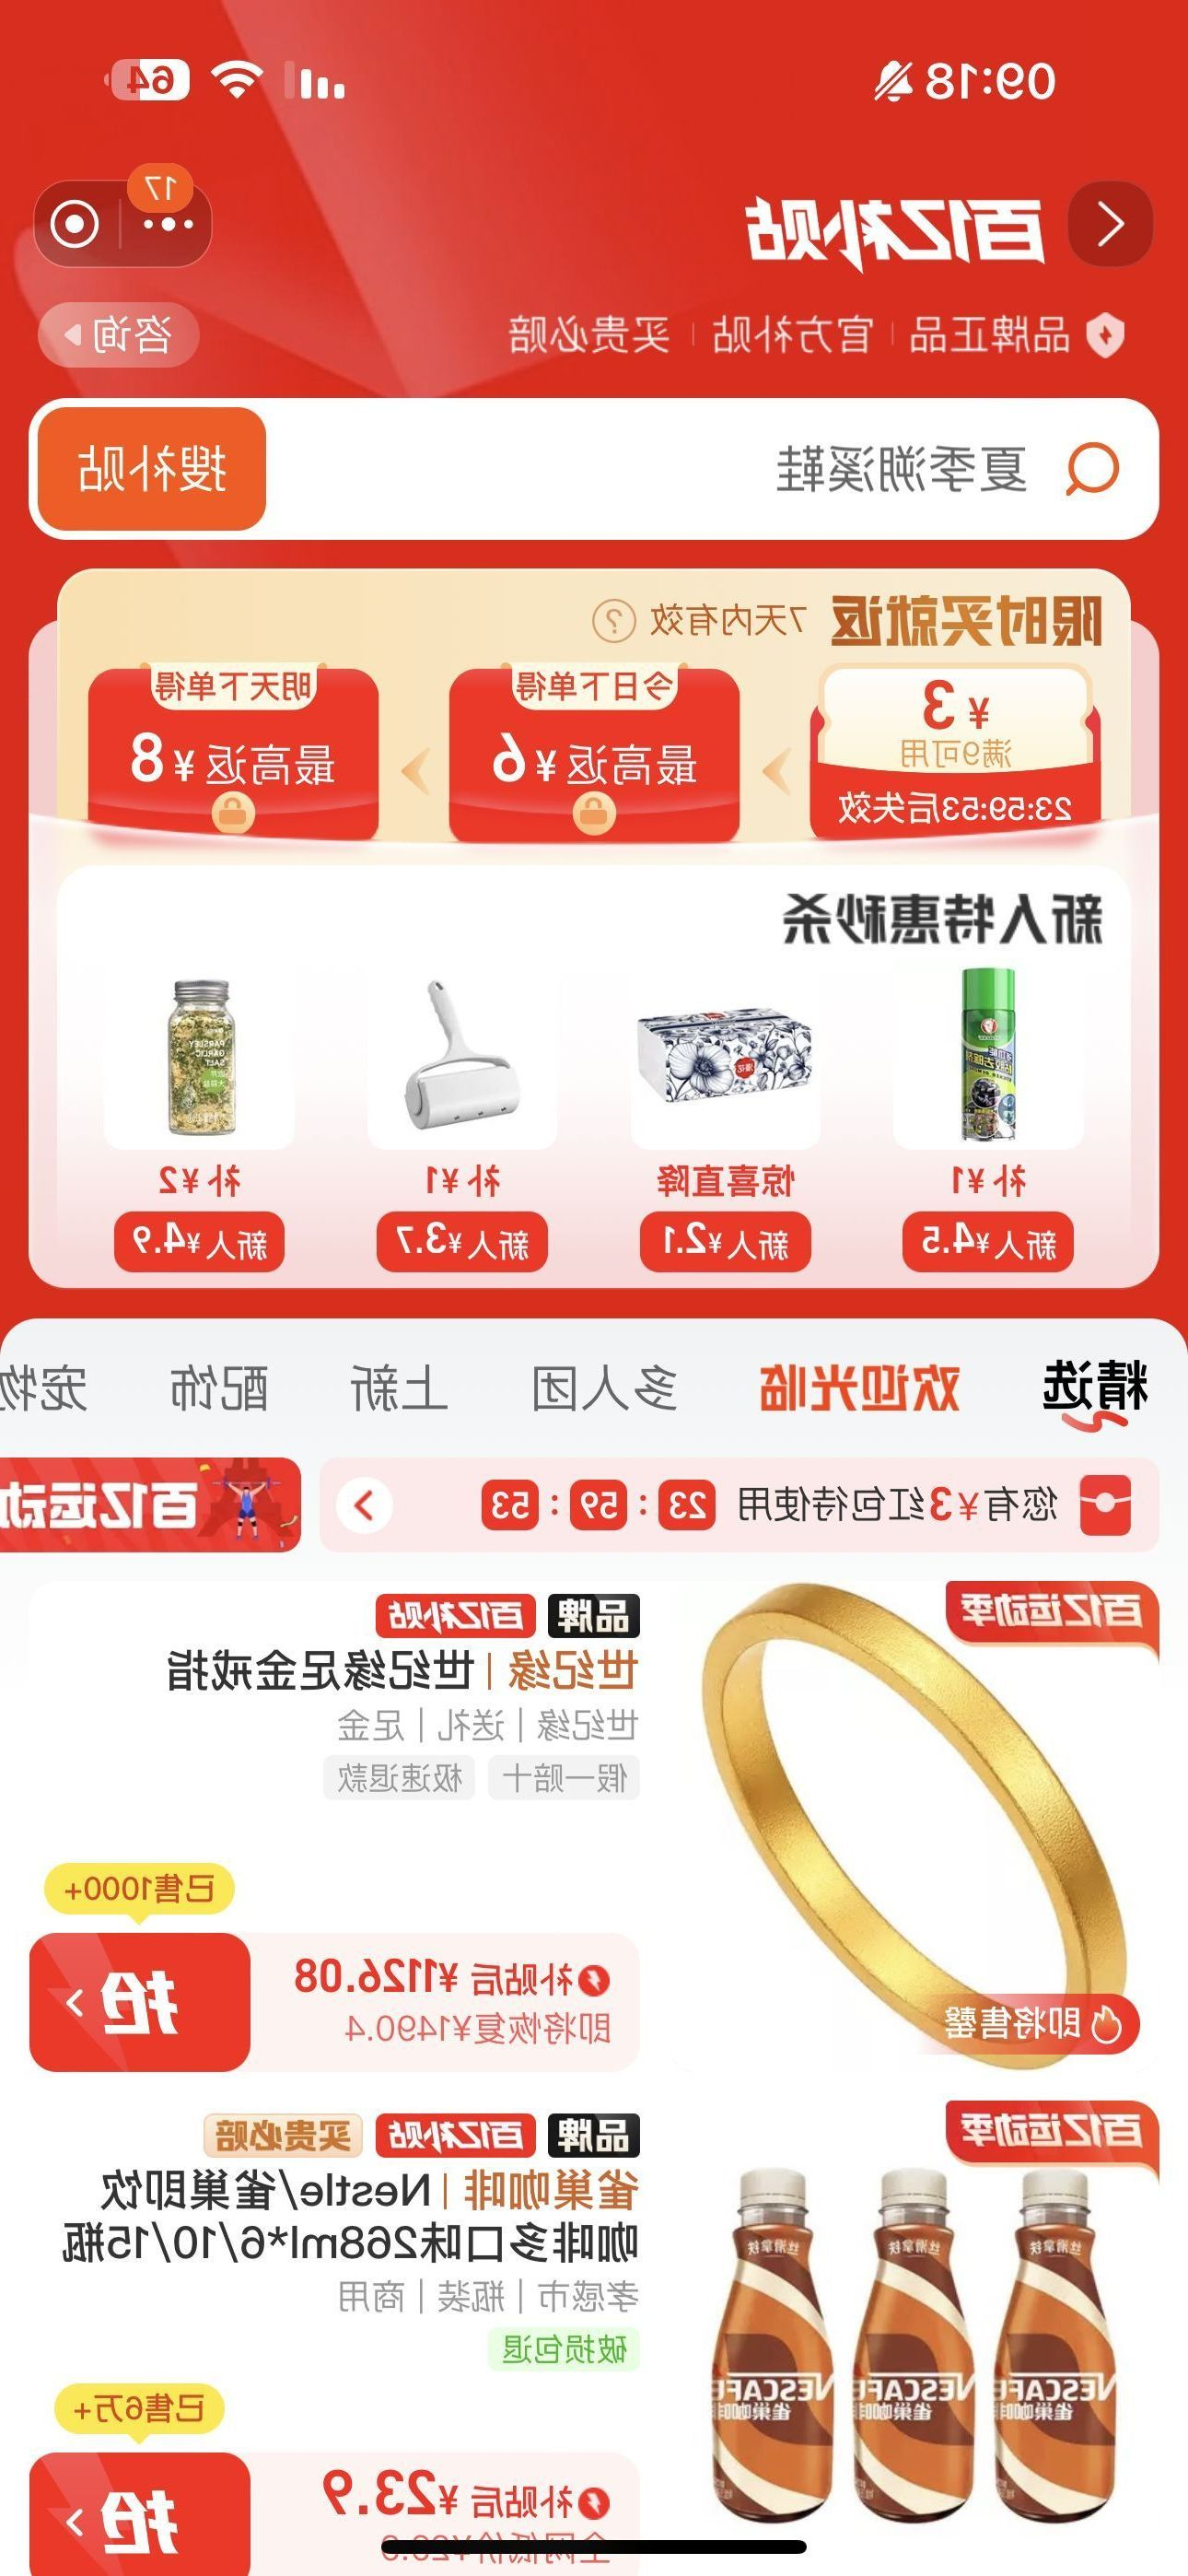item: (2, 1449, 1183, 2086), (2, 2096, 1186, 2576)
op_bar: (3, 143, 1188, 302)
seckill: (5, 550, 1188, 1304)
